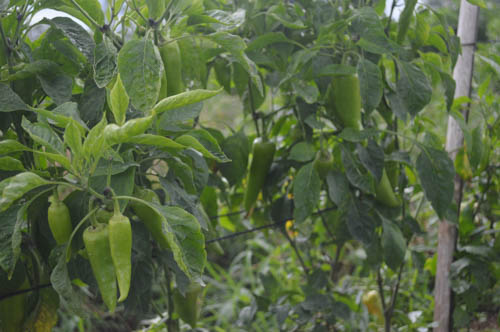ChiliPepper: (82, 224, 119, 311), (105, 220, 137, 301), (244, 139, 273, 213), (331, 72, 365, 124), (47, 205, 72, 244)
